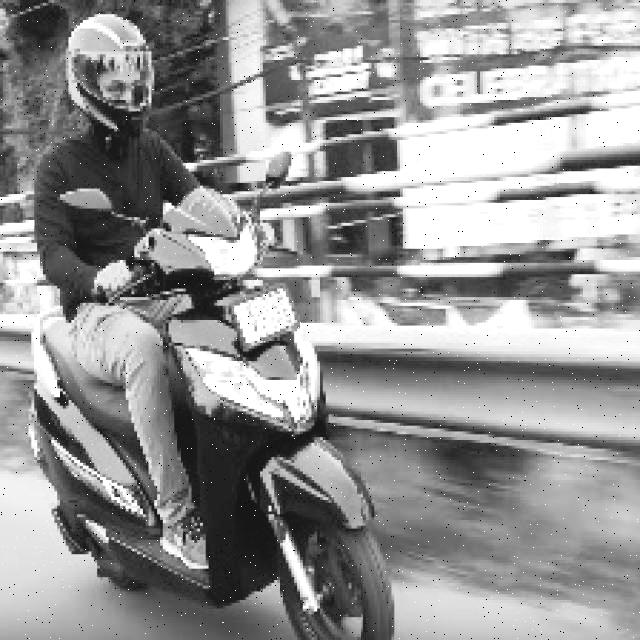Bike: (8, 194, 405, 639)
